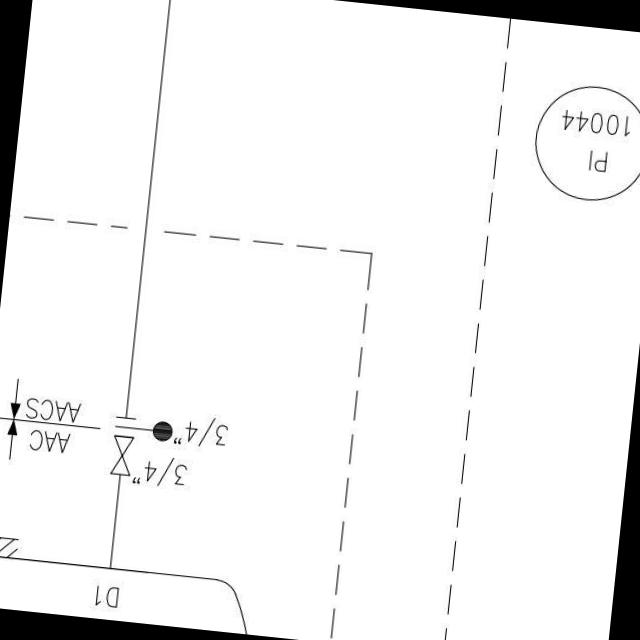GV: (106, 430, 138, 480)
